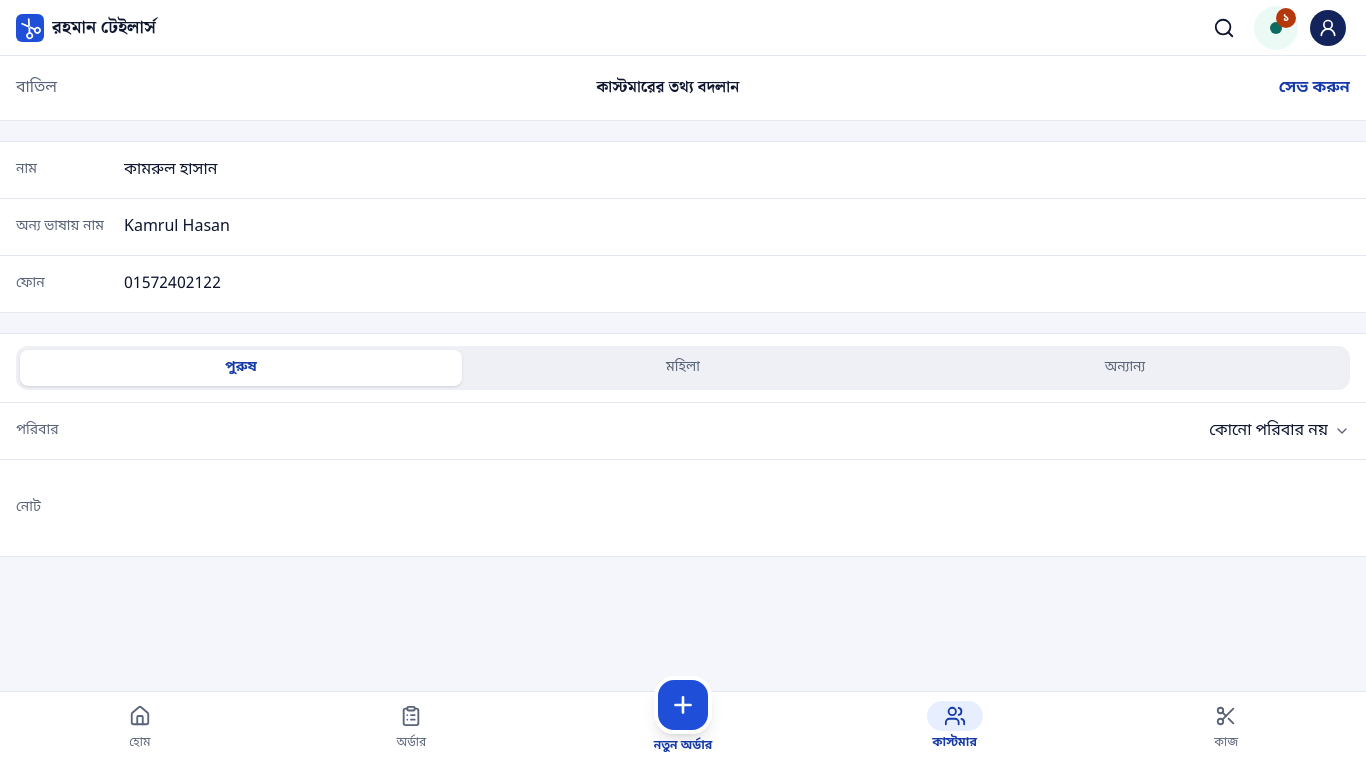
Scenario: Customer form on a phone › Cancel leaves without saving
Click the link "বাতিল" at (37, 88), box [16, 77, 57, 99]
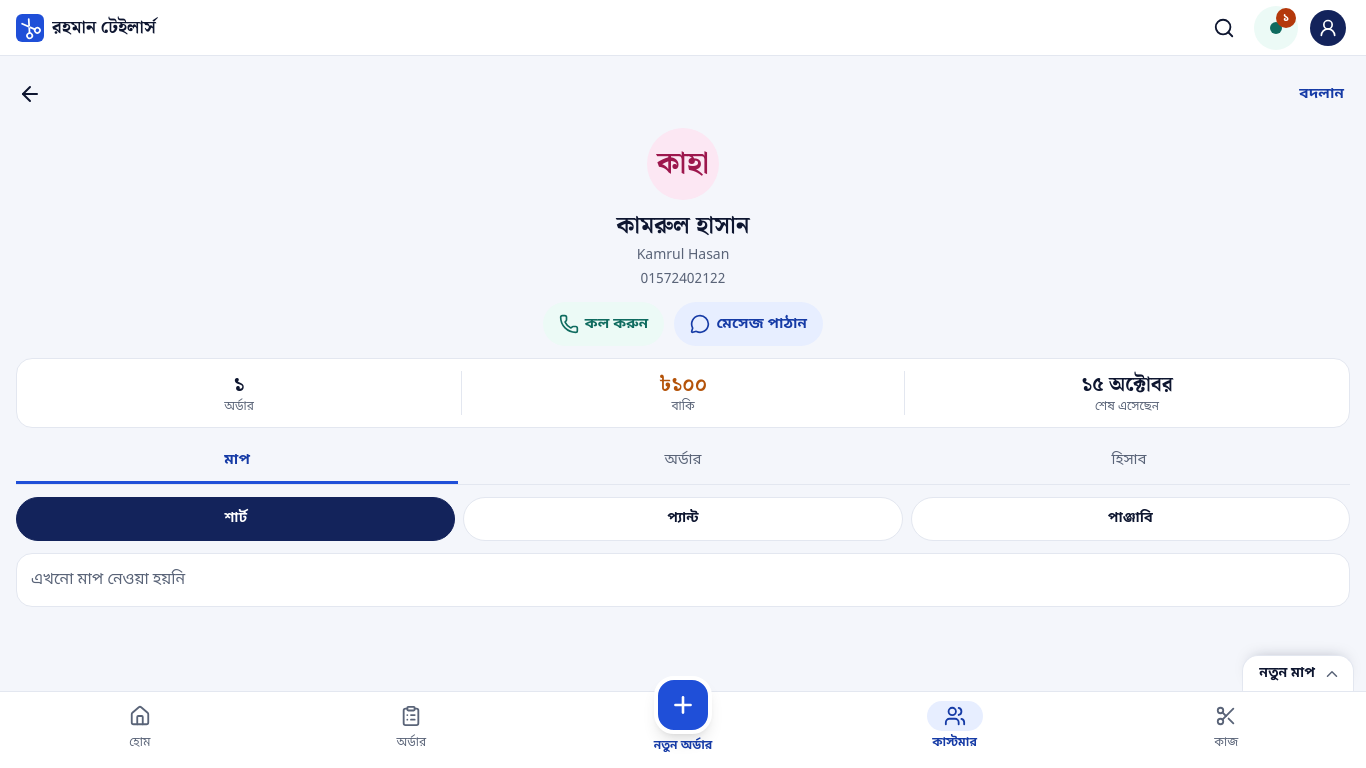
Expected: the heading "কামরুল হাসান" is shown, [616, 210, 750, 242]
